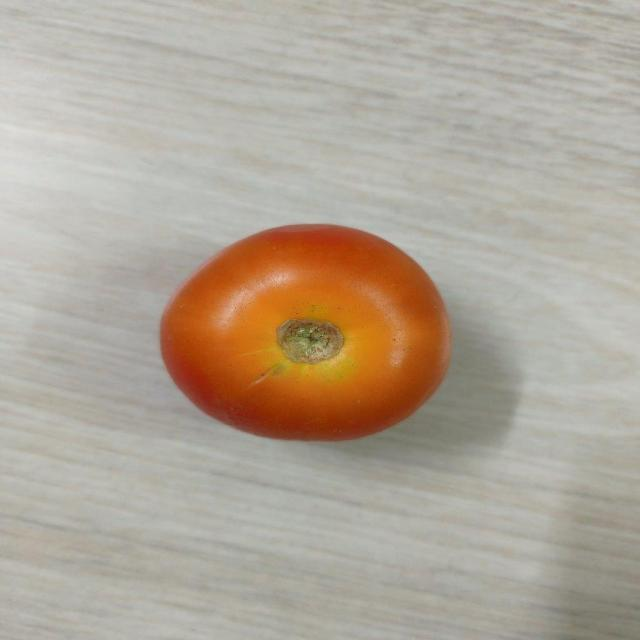Tomato: (154, 216, 458, 444)
